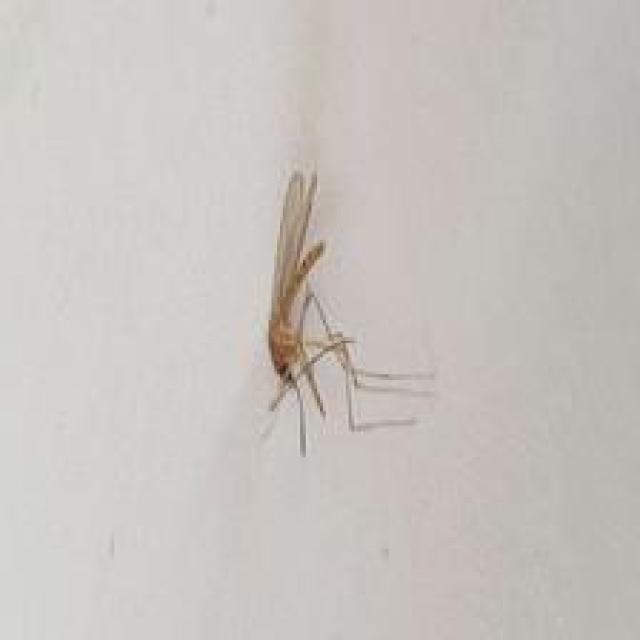Culex: (258, 166, 436, 457)
